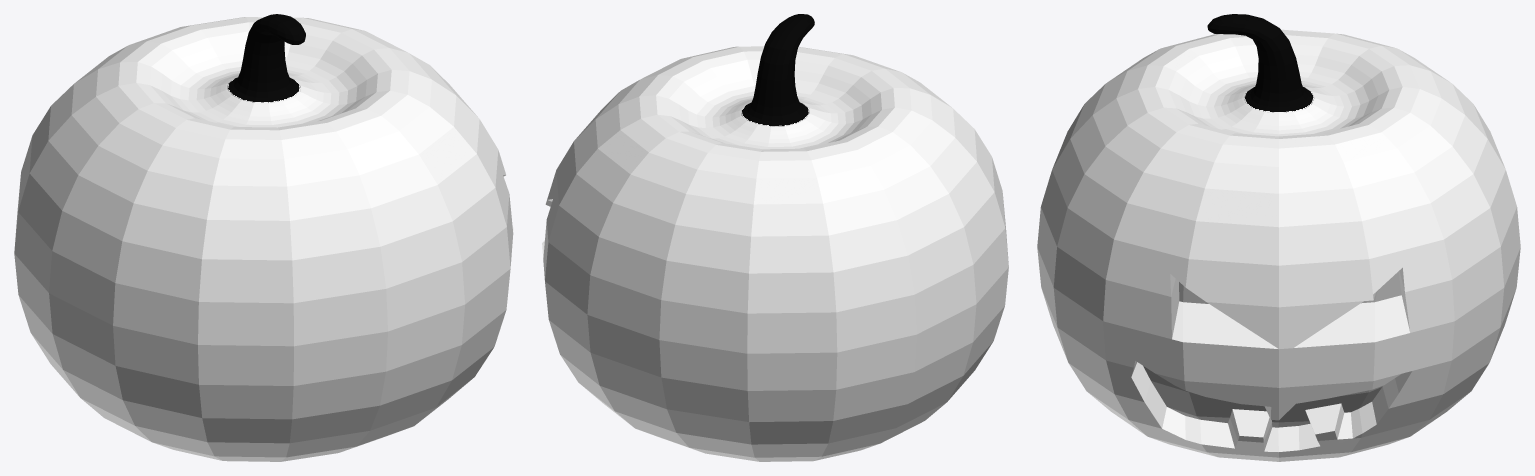
File: Pumpkin.fbx
3 views of the same model, side by side, from view 1: azimuth 30°, elevation 25°; view 2: azimuth 150°, elevation 25°; view 3: azimuth 270°, elevation 25° (orthographic). The views are drawn at different scales.
Parts seen in each view (by area): view 1: Cube; view 2: Cube; view 3: Cube.
Boxes of the visible parts, box(x1,y1,x2,y2) form: Cube: box(14, 14, 513, 461); Cube: box(542, 14, 1008, 461); Cube: box(1037, 14, 1520, 461).
Bounding box in the file's own units: 180 × 167 × 180.
Materials: 1 (1 with a texture image).
